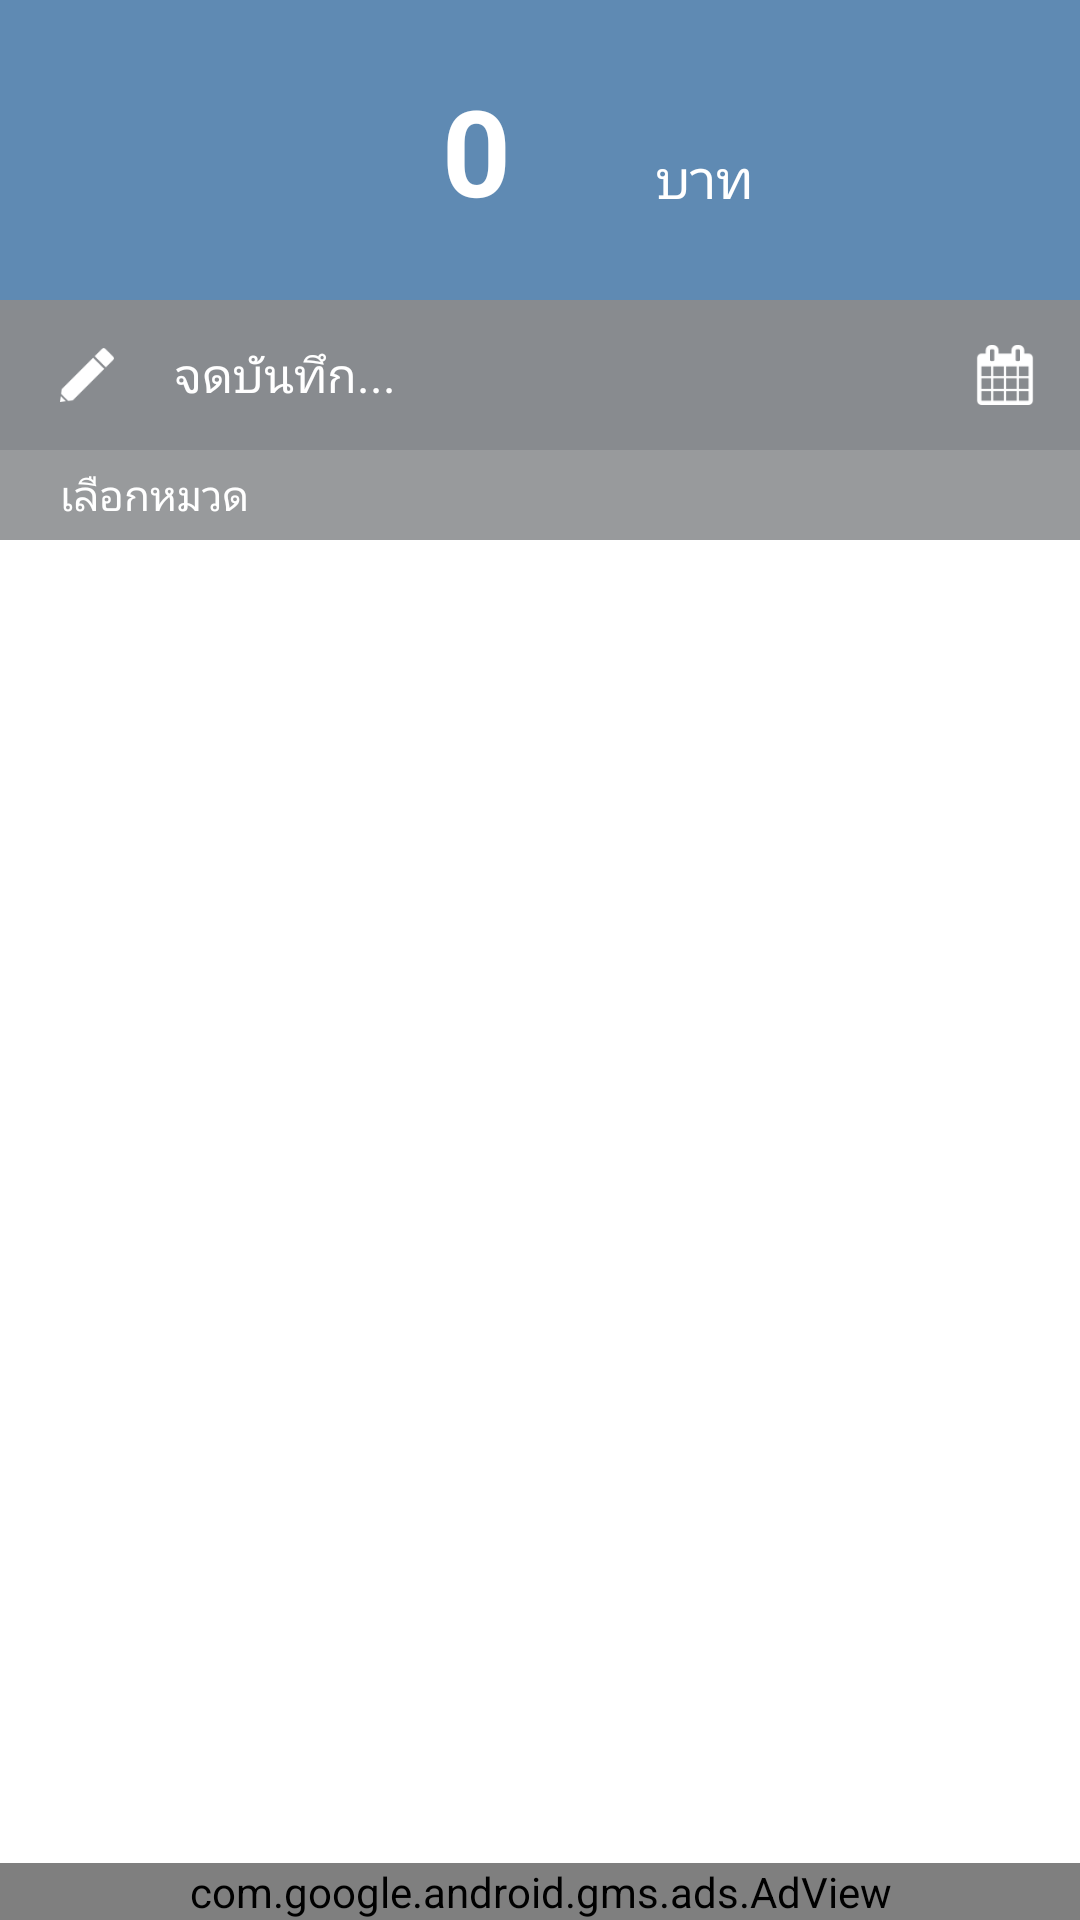

Named icons in this screenshot (1080*1920) and their bounding boxes, {"x1": x1, "y1": y1, "x2": x2, "y2": y2}:
calendar: {"x1": 977, "y1": 345, "x2": 1033, "y2": 405}
edit: {"x1": 60, "y1": 348, "x2": 114, "y2": 402}
